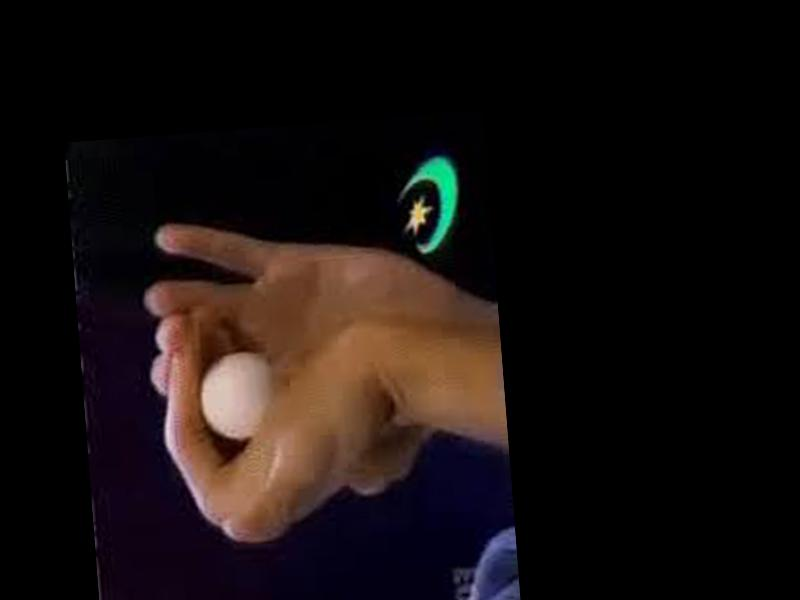Eggs: (195, 349, 270, 444)
